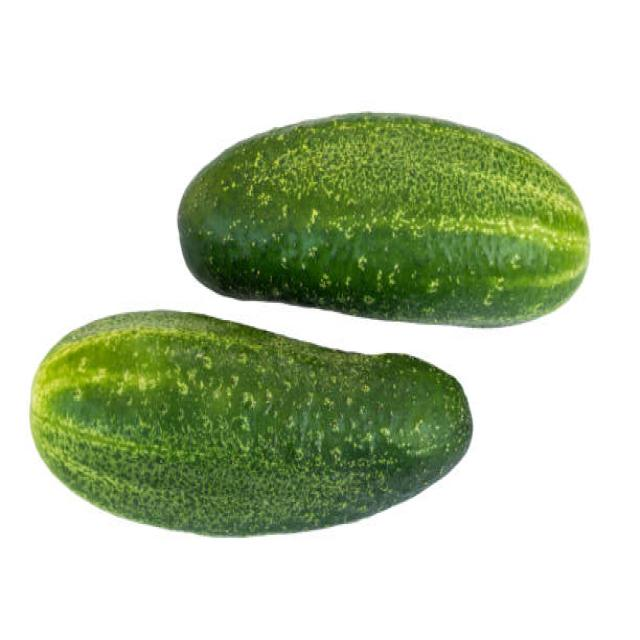cucumber: (29, 307, 472, 542), (176, 110, 590, 326)
